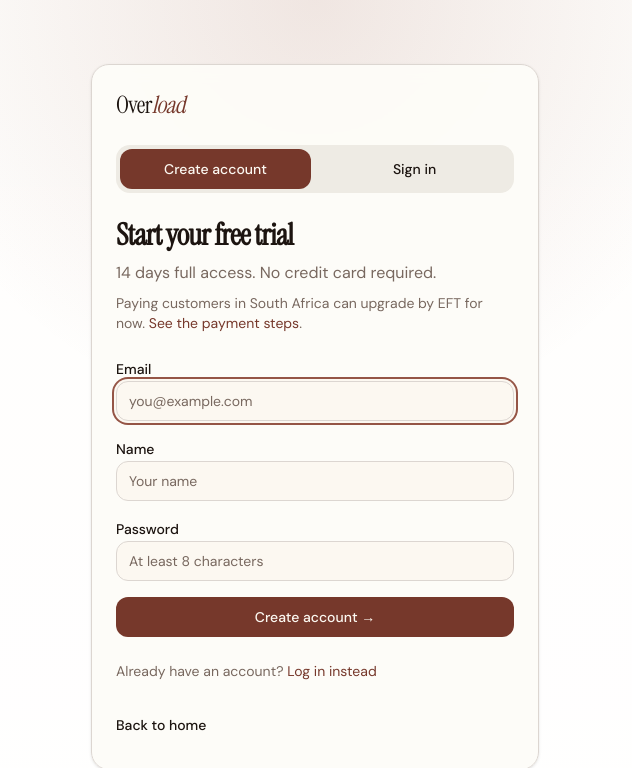
Test: LoginPage › sign-up mode › does NOT render name field in sign-in mode
The image size is (632, 768).
Click the button "Sign in": (414,169) [319,149,510,189]
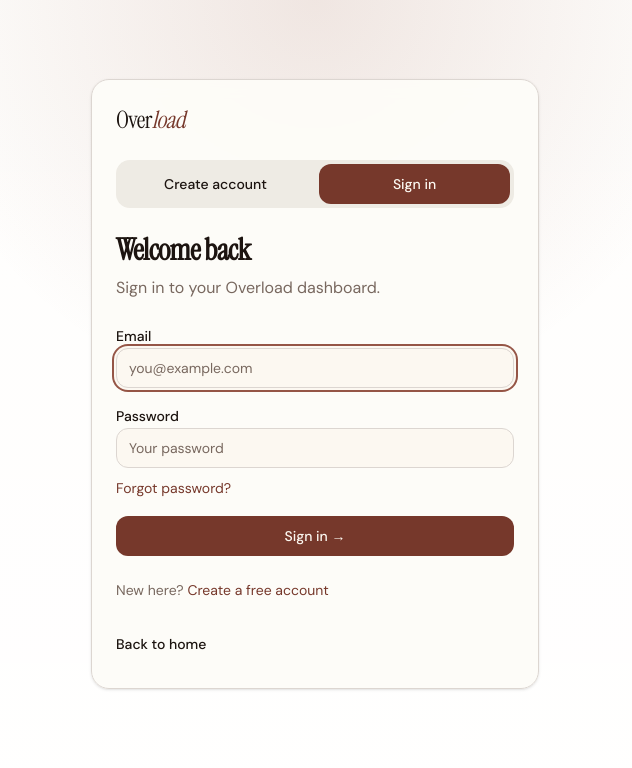
Now the label labelled "Name" is gone
